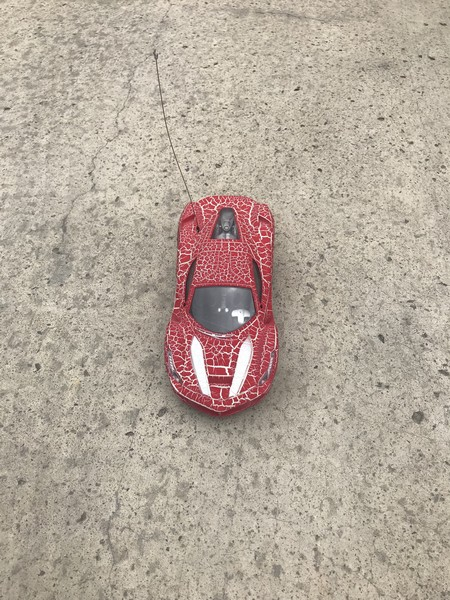RC: (164, 194, 282, 418)
